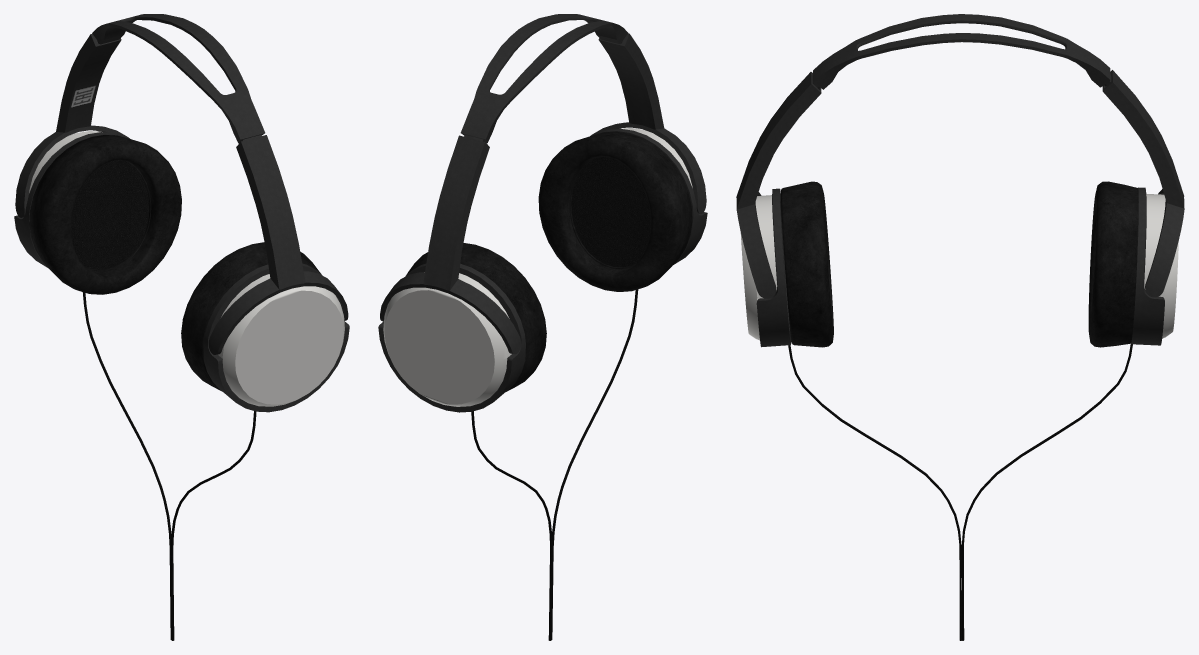
File: headphones.glb
The picture shows the model from 3 angles, left to right: view 1: azimuth 30°, elevation 25°; view 2: azimuth 150°, elevation 25°; view 3: azimuth 270°, elevation 25°; orthographic projection. The views are drawn at different scales.
Visible parts, largest first — view 1: SONY headphones; view 2: SONY headphones; view 3: SONY headphones.
Boxes of the visible parts, <box> form: SONY headphones: <box>14,14,349,640</box>; SONY headphones: <box>378,14,707,640</box>; SONY headphones: <box>736,14,1184,640</box>.
Bounding box in the file's own units: 0.8552 × 3.43 × 2.26.
Materials: 5 (5 with a texture image).
